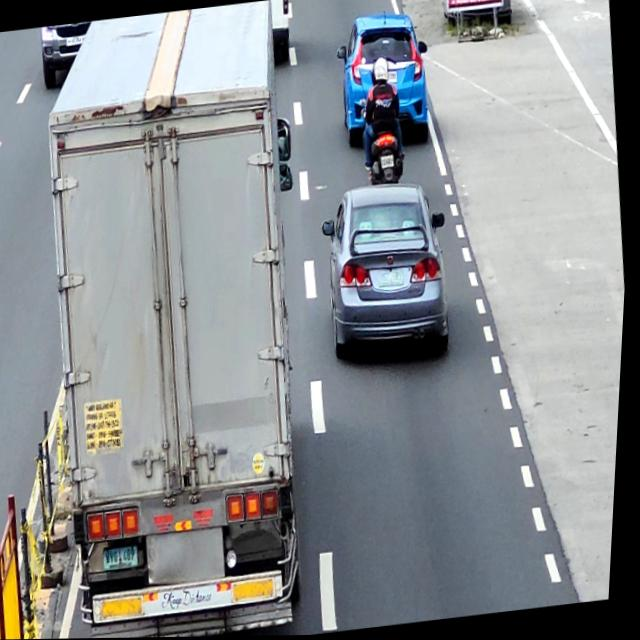Car: (314, 179, 462, 368), (330, 8, 439, 156), (38, 21, 99, 90)
License-Plate: (107, 545, 145, 571), (379, 267, 408, 288), (65, 34, 87, 47), (381, 156, 396, 170), (387, 71, 398, 83)
Motorcycle: (362, 99, 411, 190)
Truck: (15, 0, 350, 640)
